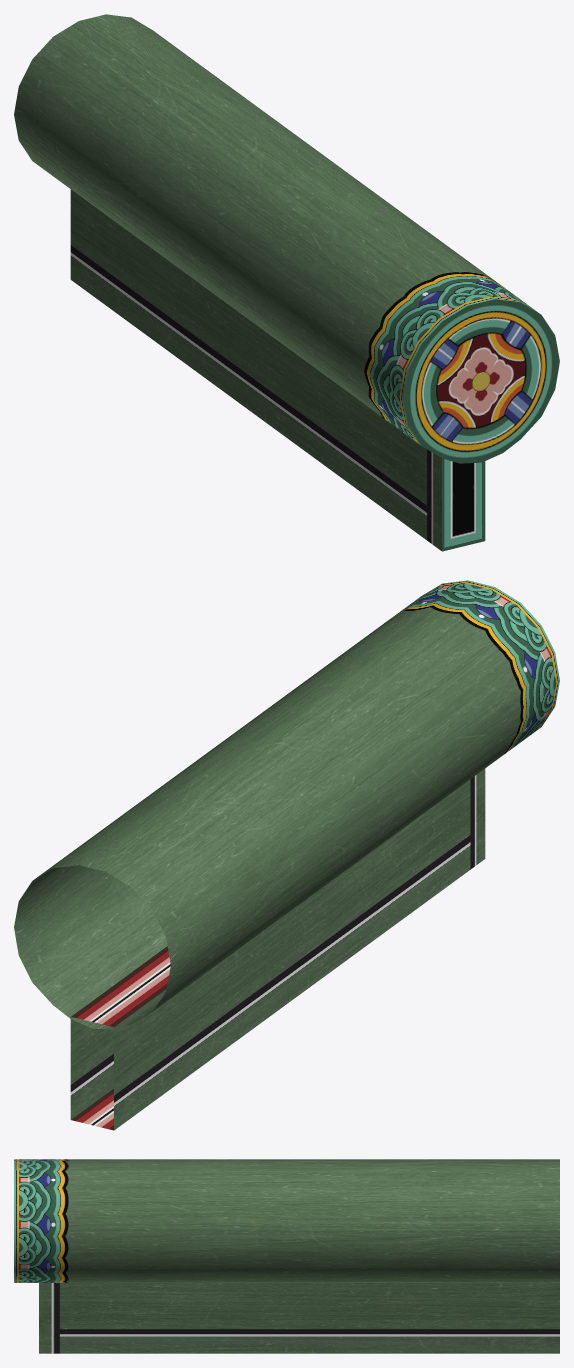
File: SM_Beam01H.fbx
The picture shows the model from 3 angles, top to bottom: view 1: azimuth 30°, elevation 25°; view 2: azimuth 150°, elevation 25°; view 3: azimuth 270°, elevation 25°; orthographic projection. The views are drawn at different scales.
Visible parts, largest first — view 1: SM_Beam01H; view 2: SM_Beam01H; view 3: SM_Beam01H.
Boxes of the visible parts, x1,y1,x2,y2 form: SM_Beam01H: [14, 14, 559, 551]; SM_Beam01H: [14, 580, 559, 1130]; SM_Beam01H: [14, 1159, 559, 1353].
Bounding box in the file's own units: 28.53 × 123 × 44.62.
